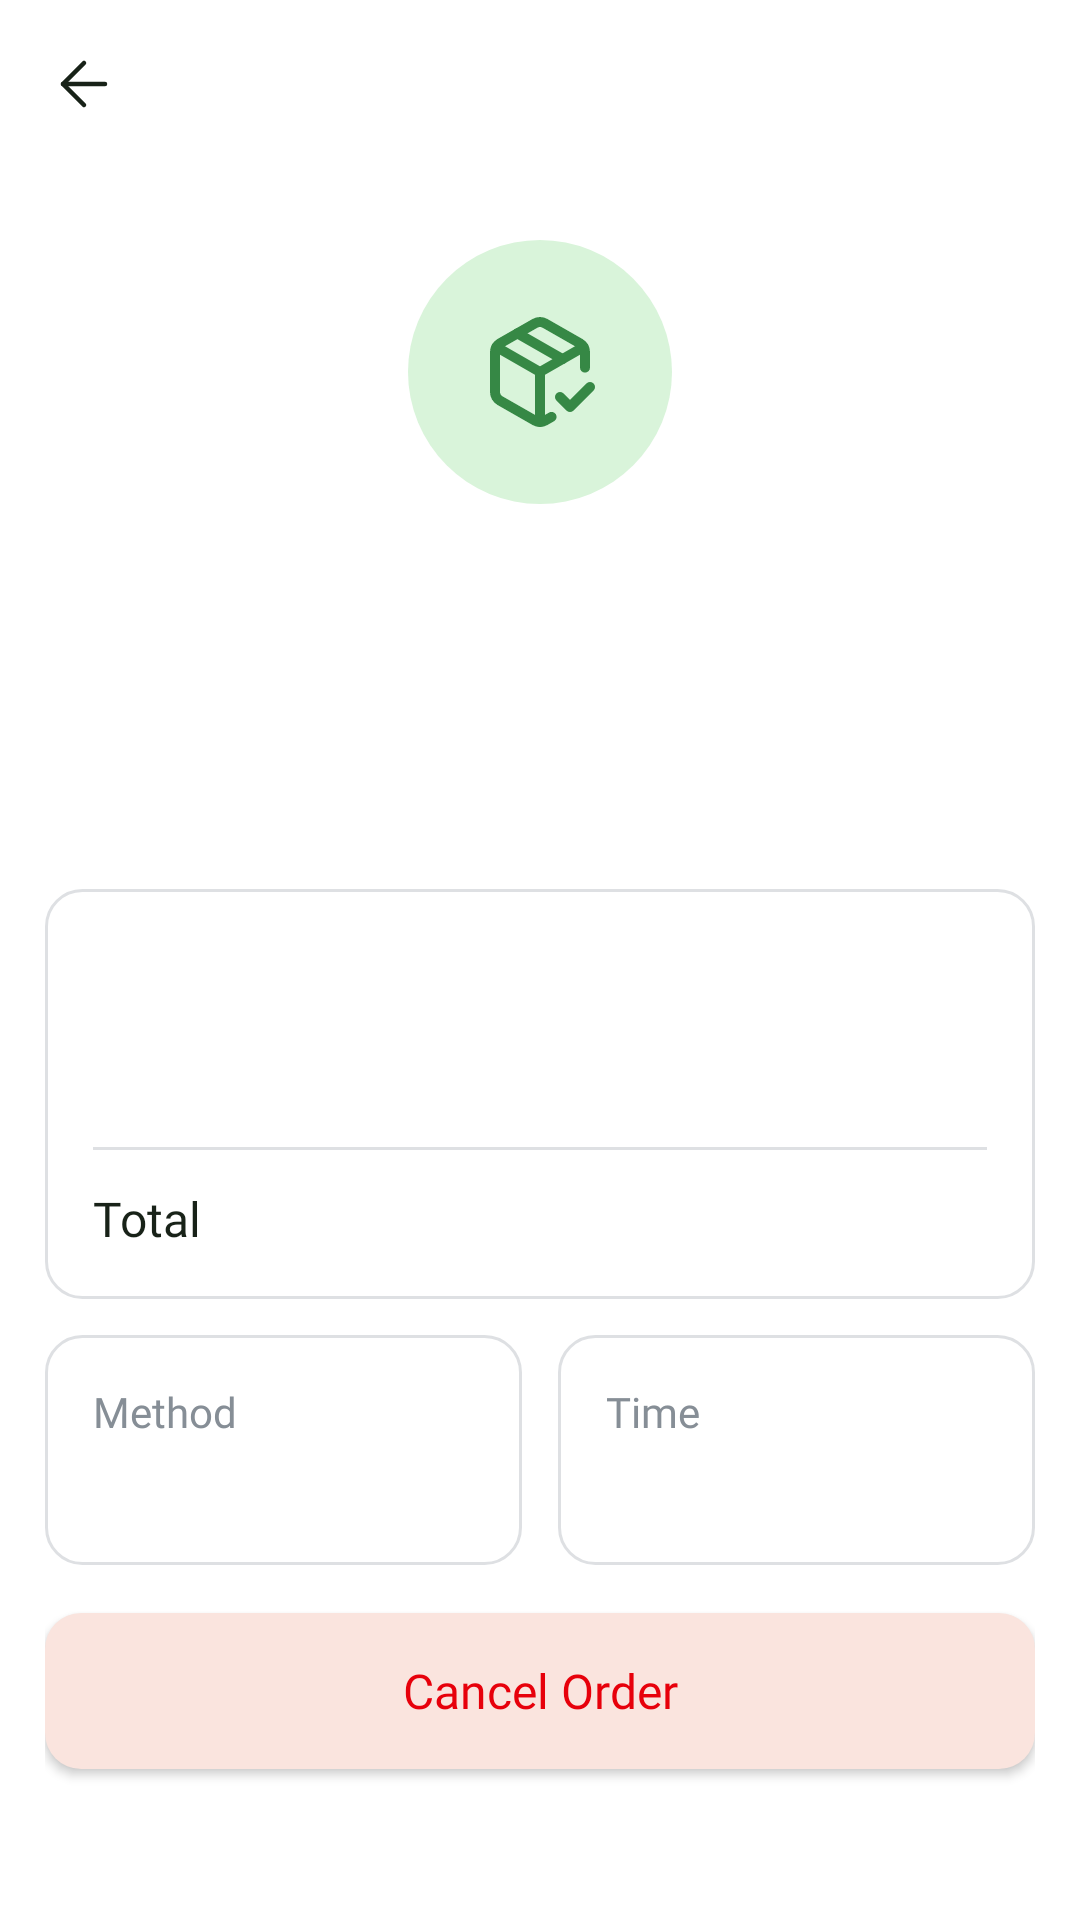

Where to tap for icons on this 1080x1920 app screen, as (x,y):
Back: (83,84)
package: (540,372)
